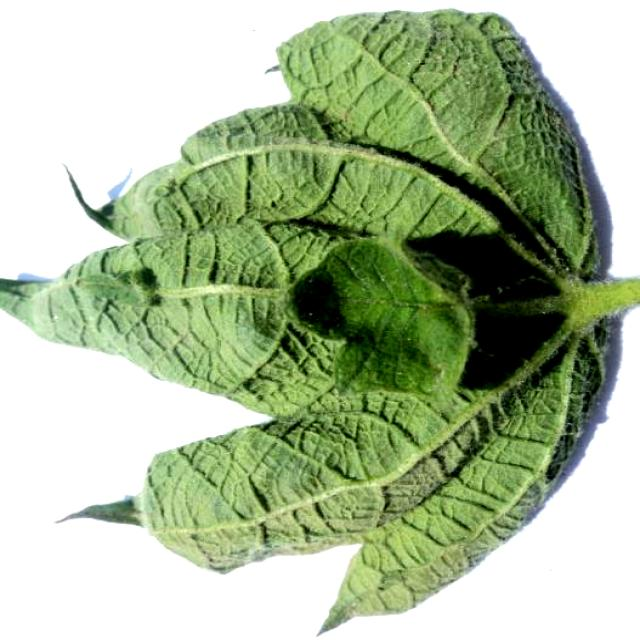Leaf Curl Virus: (140, 42, 640, 499)
